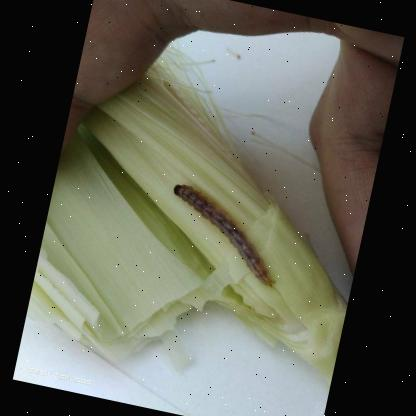Asian Corn Borer Larvae: (154, 179, 294, 291)
